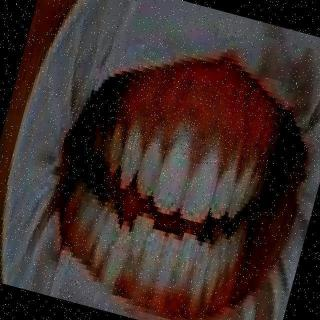maligned: (102, 227, 136, 305), (126, 212, 155, 277)
